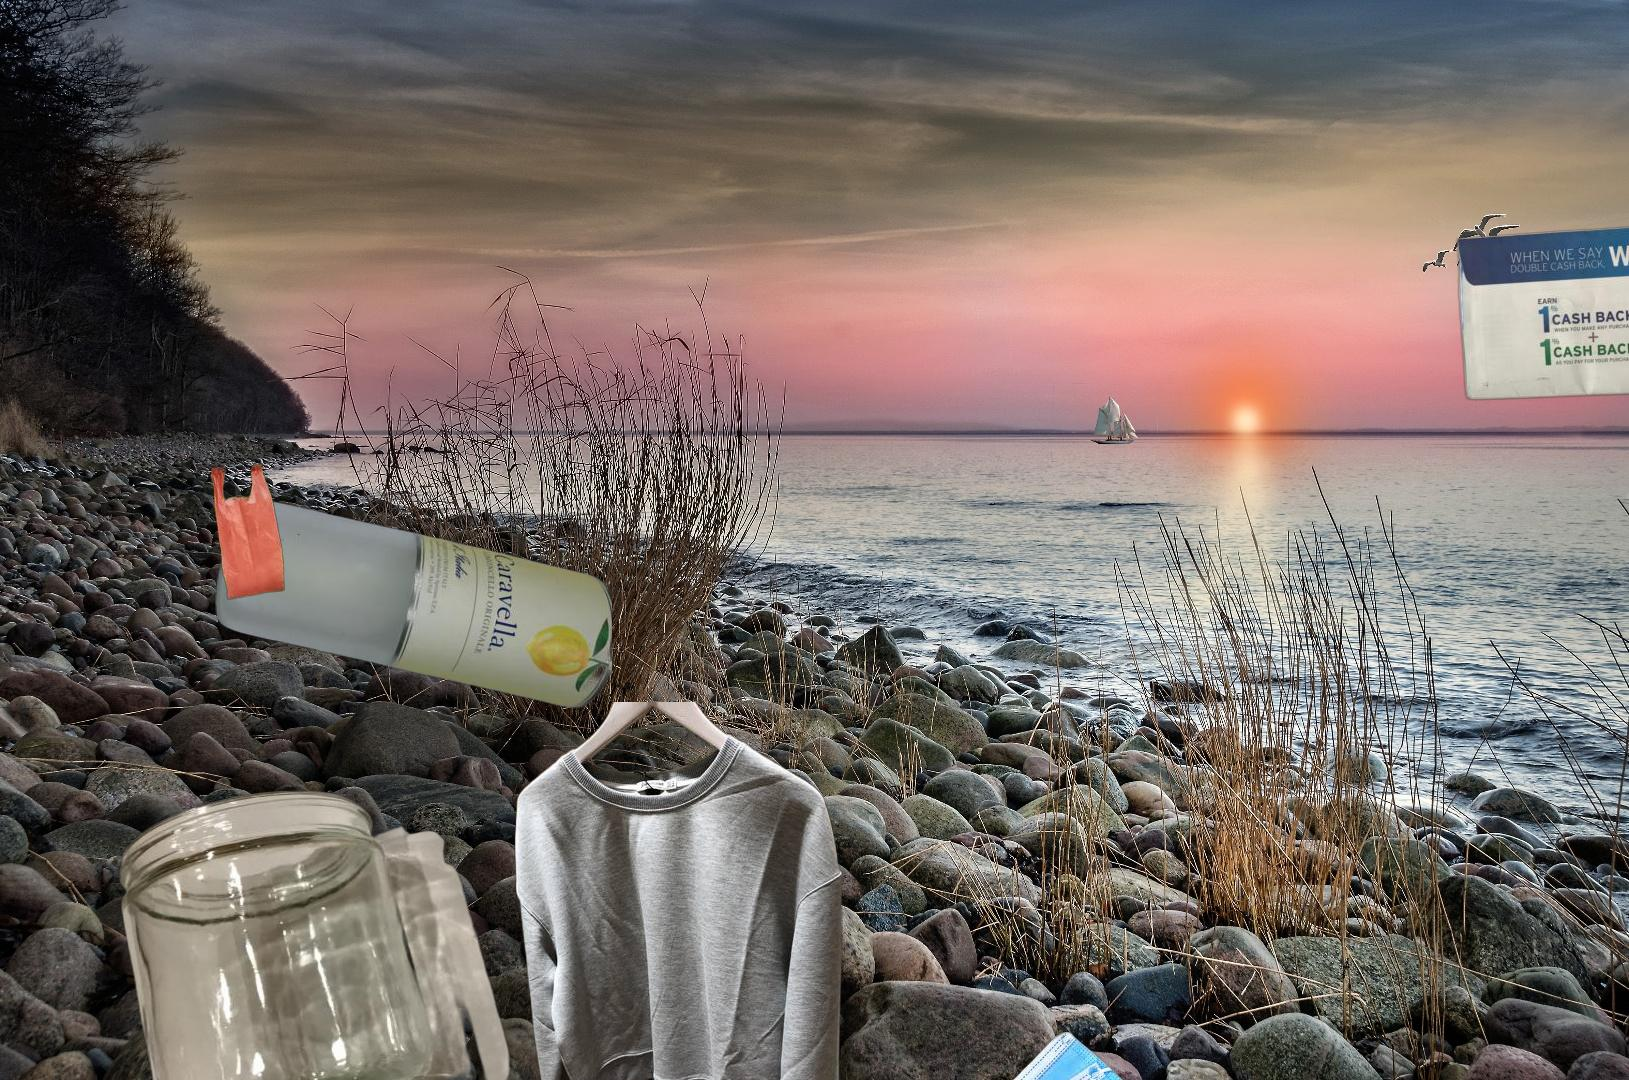clothes: (512, 702, 846, 1080)
glass: (114, 787, 534, 1080), (210, 495, 612, 711)
paper: (1452, 211, 1629, 403)
plastic-bag: (207, 458, 288, 601)
trash: (933, 1032, 1157, 1080)
trashbox-cardboard: (1501, 709, 1629, 1080)
